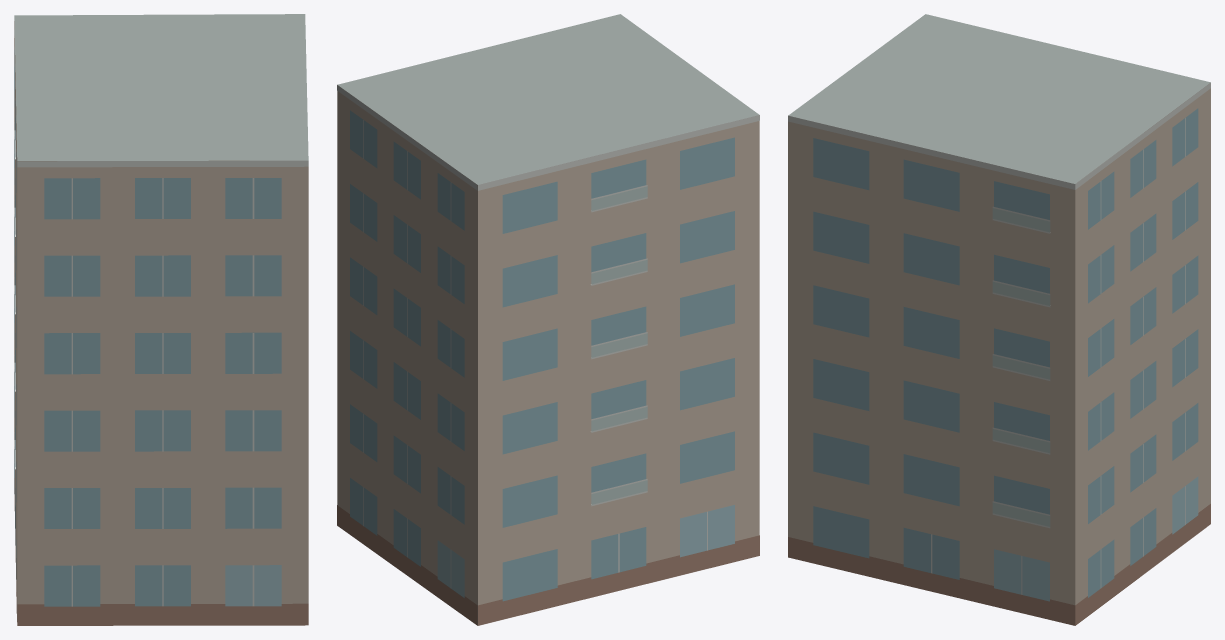
Rendered from survey-upis-33024886.glb.
3 renders of one model, left to right at view 1: azimuth 30°, elevation 25°; view 2: azimuth 150°, elevation 25°; view 3: azimuth 270°, elevation 25°, orthographic. The views are drawn at different scales.
Visible parts, largest first — view 1: survey-upis-33024886.tmp; view 2: survey-upis-33024886.tmp; view 3: survey-upis-33024886.tmp.
Part boxes in pixels (x1,y1,x2,y2): survey-upis-33024886.tmp: [14, 14, 308, 625]; survey-upis-33024886.tmp: [337, 14, 759, 625]; survey-upis-33024886.tmp: [788, 14, 1210, 625].
Size of the model in its own units: 15.12 by 18.3 by 15.88.
